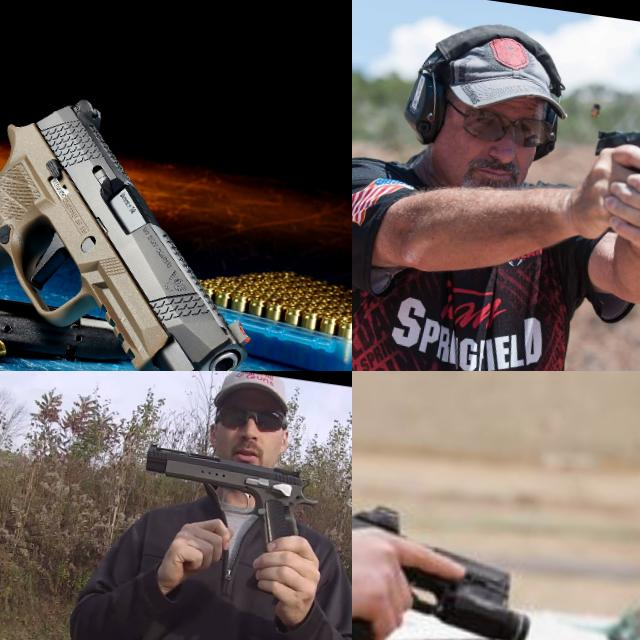handgun: (0, 68, 282, 371), (352, 494, 548, 633), (132, 440, 326, 550), (589, 98, 640, 188)
